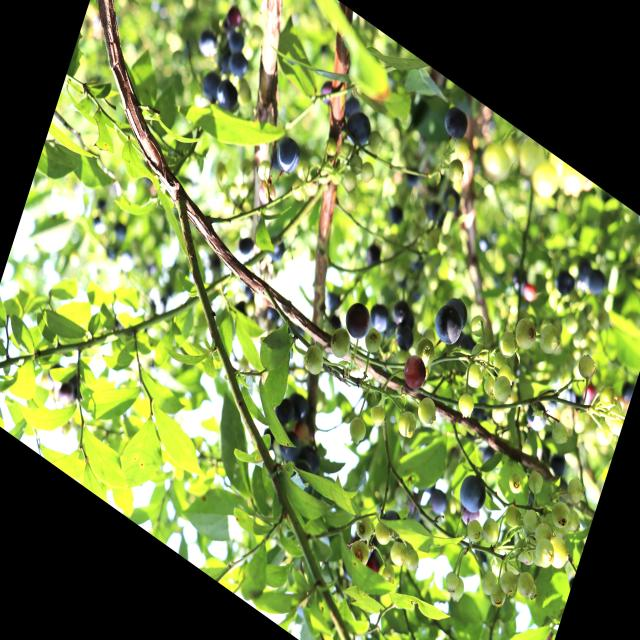blueberry: (430, 299, 466, 350), (455, 469, 490, 519), (341, 294, 375, 344), (271, 128, 304, 178), (342, 107, 374, 151), (521, 393, 552, 437), (440, 100, 471, 143), (442, 291, 472, 331), (214, 75, 241, 117), (276, 426, 303, 466), (272, 394, 297, 430), (200, 67, 223, 105), (551, 265, 576, 299), (392, 322, 417, 356), (195, 27, 219, 62), (427, 484, 450, 520), (227, 49, 251, 83), (285, 388, 309, 422), (585, 265, 607, 298), (368, 302, 390, 335), (266, 233, 288, 265), (547, 449, 568, 482), (390, 298, 412, 329), (226, 27, 246, 58), (236, 232, 254, 258)
blueberry-halfripe: (399, 350, 428, 393)
blueberry-unripe: (511, 314, 539, 354), (536, 318, 562, 359), (545, 534, 570, 572), (302, 343, 327, 380), (328, 325, 352, 362), (412, 334, 437, 369), (533, 535, 557, 571), (415, 392, 439, 428), (575, 350, 599, 385), (548, 497, 572, 531), (348, 536, 372, 568), (371, 517, 394, 550), (593, 416, 616, 449), (480, 514, 502, 548), (461, 359, 484, 391), (346, 413, 368, 446), (396, 408, 417, 442), (514, 568, 536, 600), (491, 373, 513, 404), (520, 506, 541, 538), (388, 538, 409, 570), (497, 329, 518, 361), (596, 382, 618, 412), (362, 324, 383, 355), (497, 568, 518, 598), (455, 390, 476, 420), (354, 513, 374, 544), (366, 126, 386, 157), (534, 520, 556, 548), (488, 580, 508, 610), (402, 546, 422, 576), (446, 157, 466, 187), (479, 568, 498, 599), (448, 573, 467, 604), (564, 477, 584, 506), (506, 469, 526, 498), (468, 312, 488, 340), (564, 506, 582, 536), (503, 502, 522, 530), (465, 517, 484, 544), (526, 469, 544, 497), (368, 401, 386, 428), (480, 371, 498, 398), (342, 188, 360, 214), (341, 168, 359, 194), (444, 568, 461, 595), (359, 160, 376, 186), (490, 349, 508, 373), (381, 562, 396, 586)
